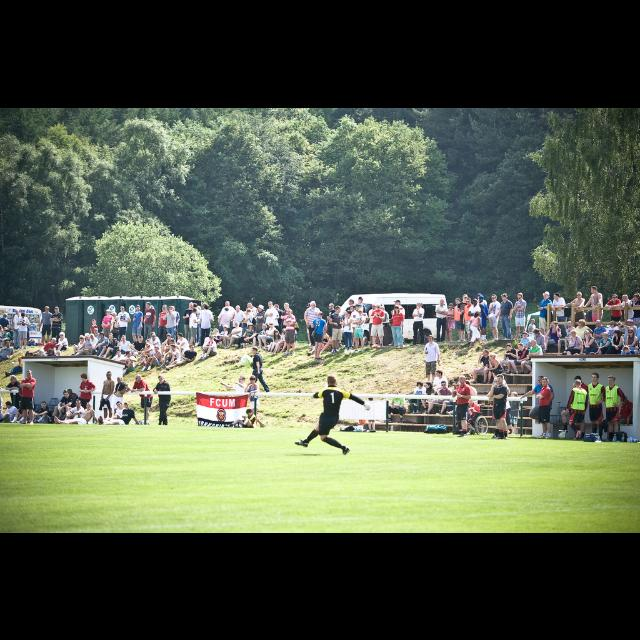Football: (558, 431, 566, 437)
